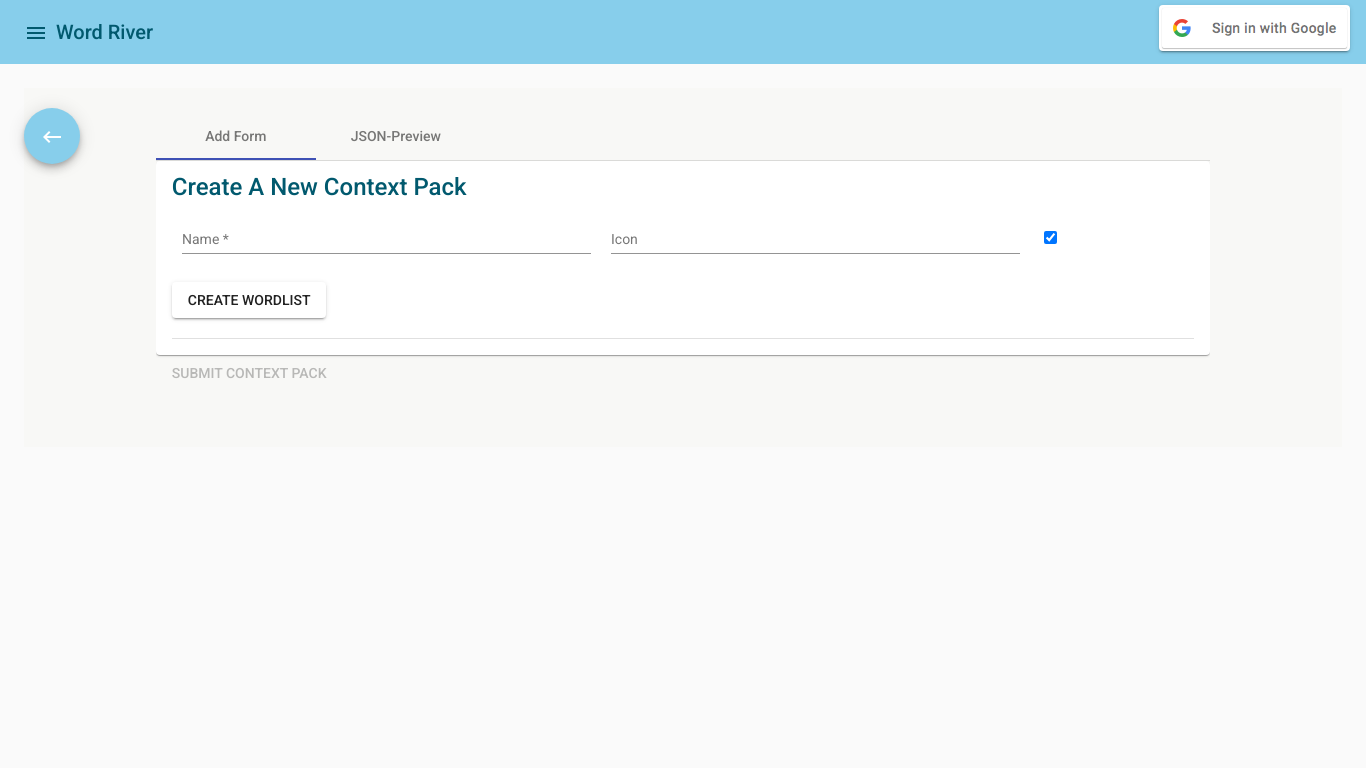
Test: Add a Context pack › Should use the cancel button to go back
This screenshot has width=1366, height=768.
Click the button with class "cancel-button".
click(52, 136)  # box x1=24 y1=108 x2=80 y2=164
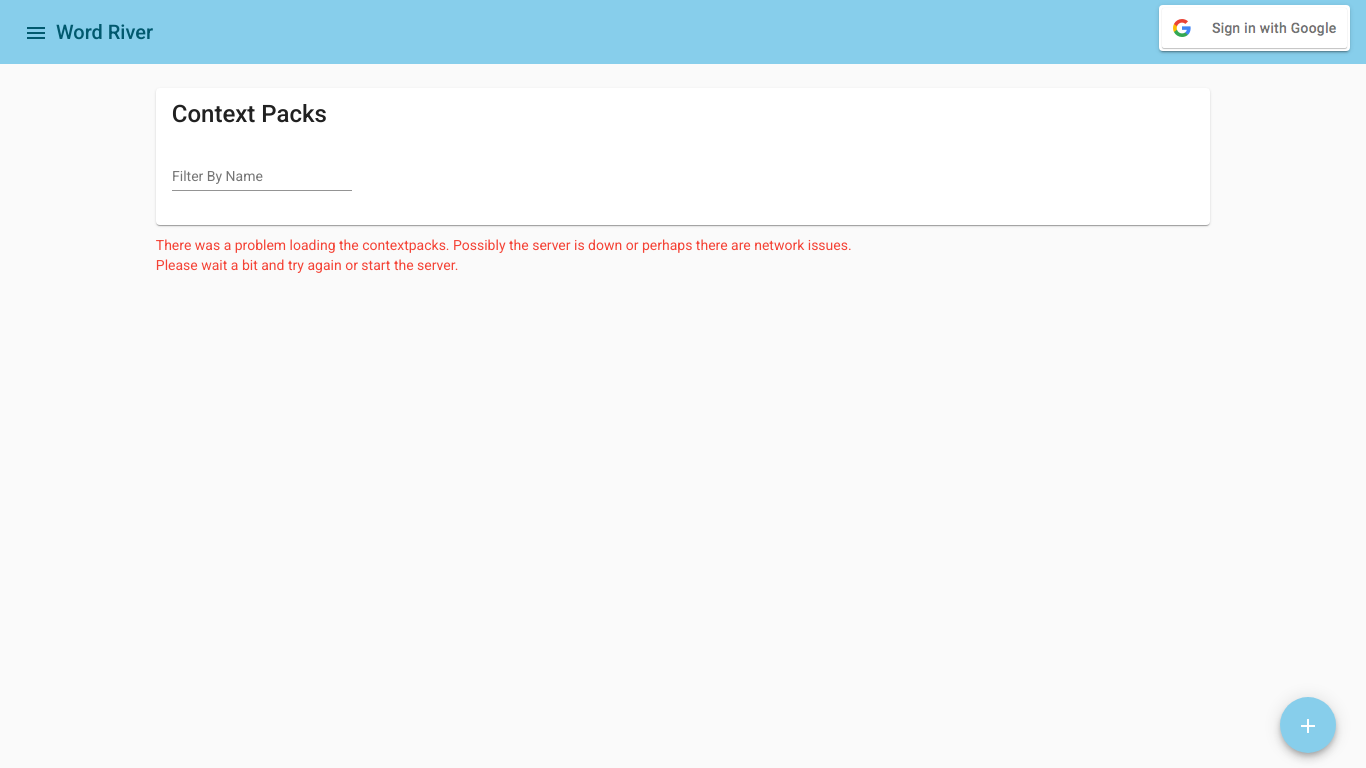
Now the text with class "contextpack-list-title" reads "Context Packs", box x1=172 y1=100 x2=327 y2=128
